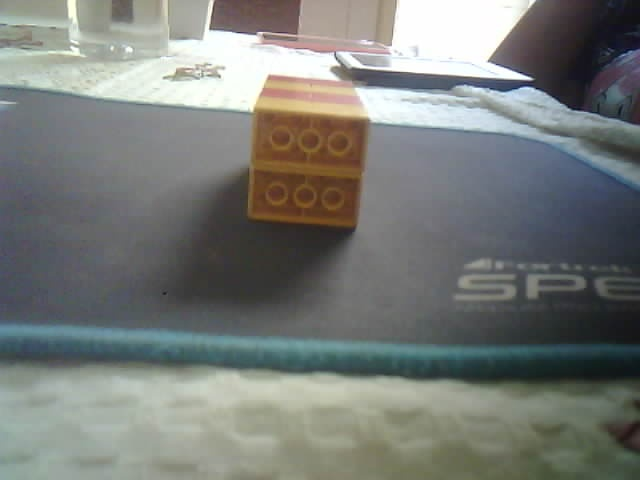lego: (246, 70, 372, 232)
